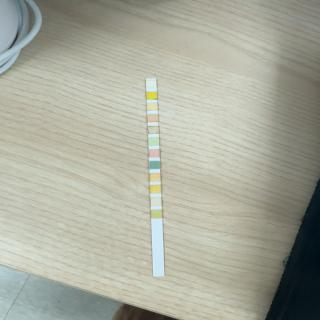mark: (148, 149, 160, 158), (150, 185, 161, 194), (149, 161, 161, 169), (147, 126, 159, 134), (151, 210, 162, 218), (147, 114, 158, 122), (146, 92, 157, 100), (150, 198, 162, 205), (146, 103, 158, 110), (150, 173, 160, 181), (148, 137, 158, 145), (146, 81, 157, 88)
